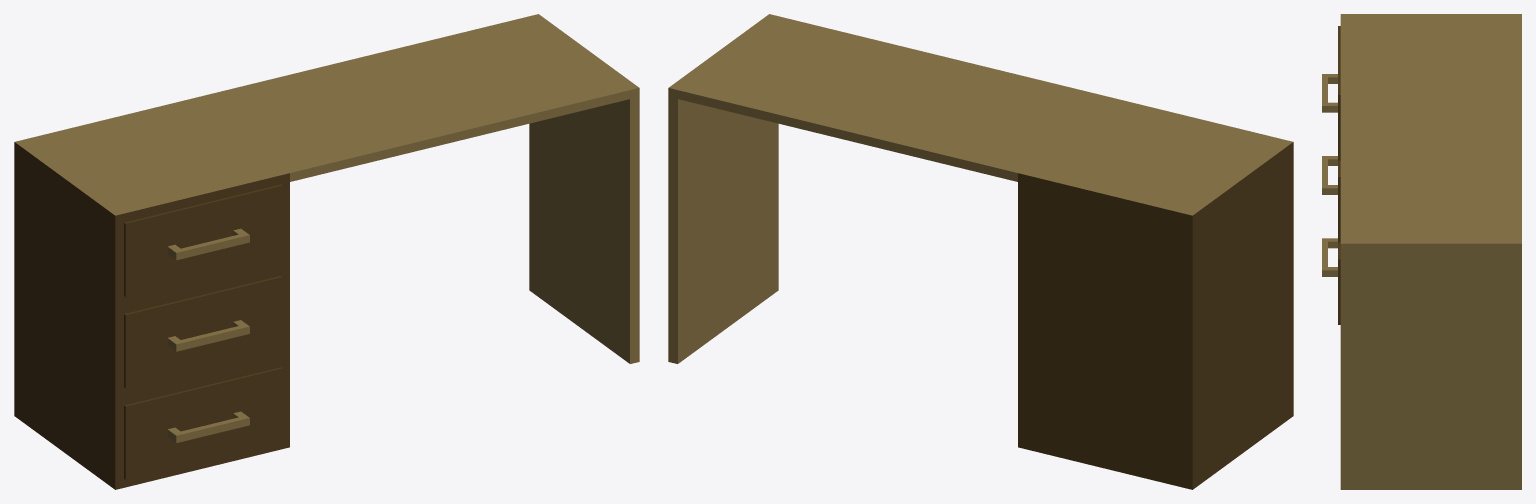
Rendered from escritorio-material.fbx.
3 renders of one model, left to right at view 1: azimuth 30°, elevation 25°; view 2: azimuth 150°, elevation 25°; view 3: azimuth 270°, elevation 25°, orthographic. The views are drawn at different scales.
Parts seen in each view (by area): view 1: Escritorio; view 2: Escritorio; view 3: Escritorio.
Boxes of the visible parts, left/top/right/bottom form: Escritorio: left=14, top=14, right=639, bottom=489; Escritorio: left=668, top=14, right=1293, bottom=489; Escritorio: left=1322, top=14, right=1521, bottom=489.
Size of the model in its own units: 118 by 59.08 by 43.44.
